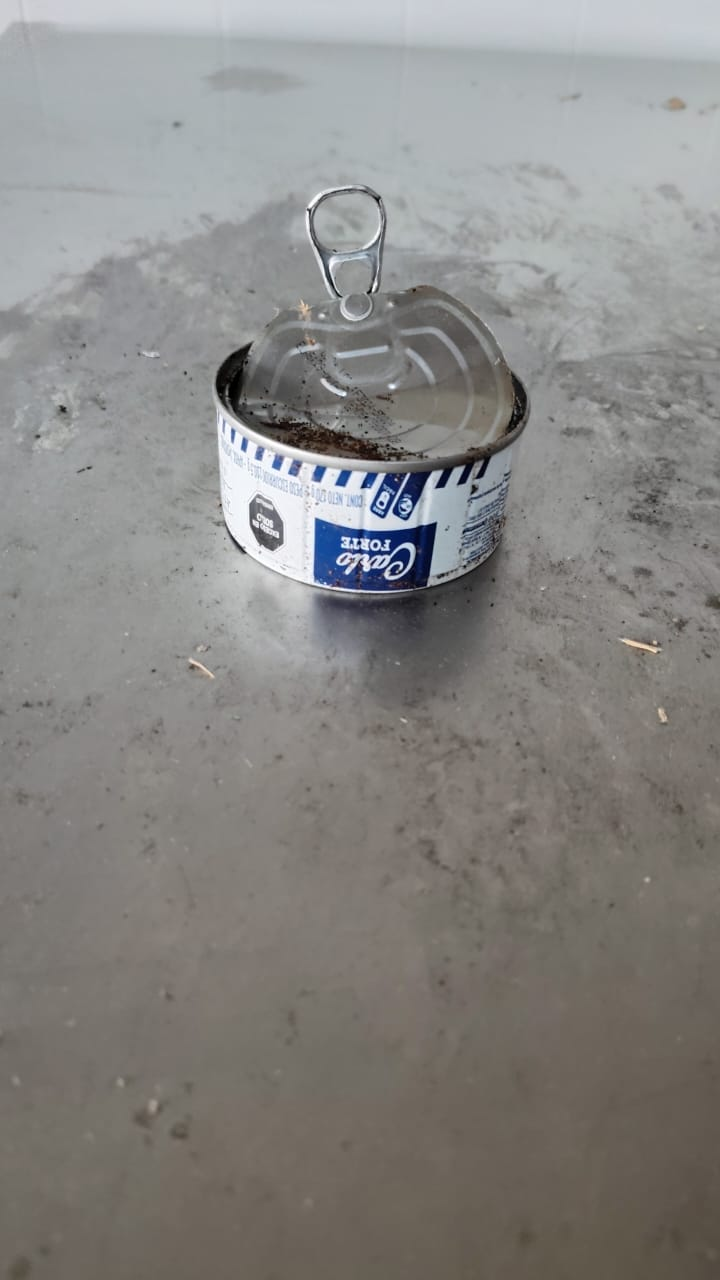Metal: (214, 187, 528, 600)
